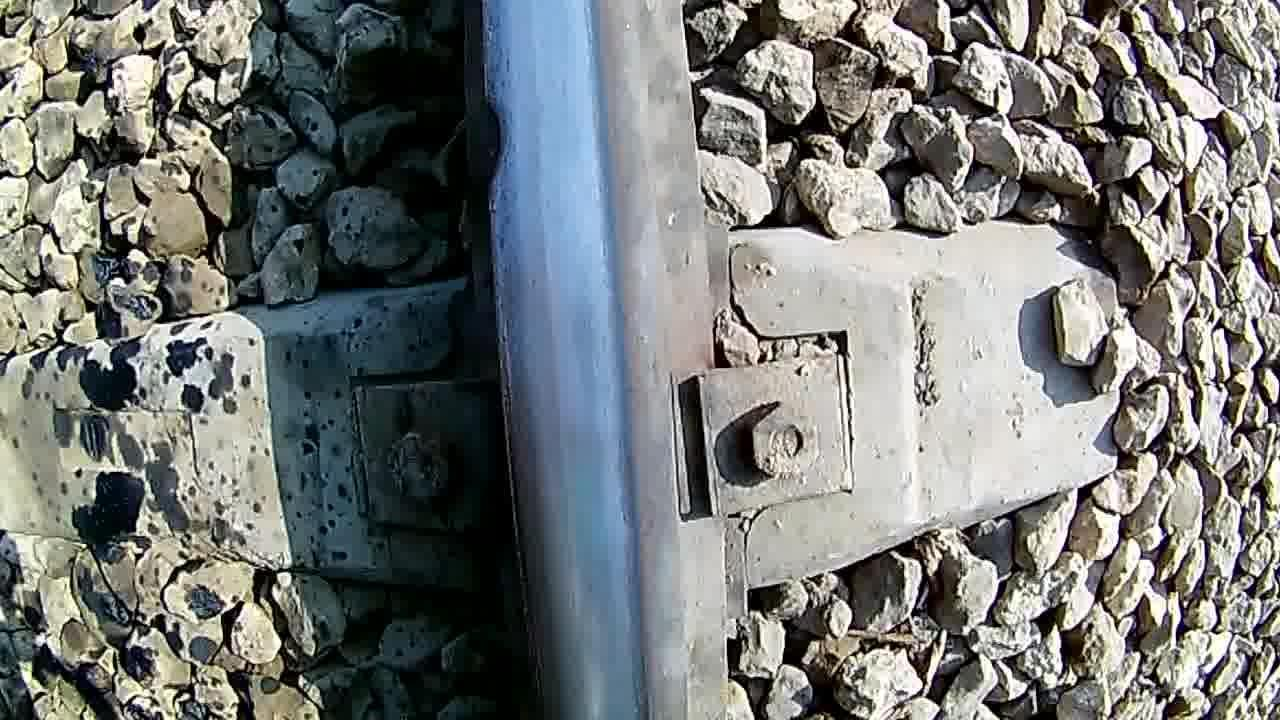crack: (497, 0, 678, 720)
